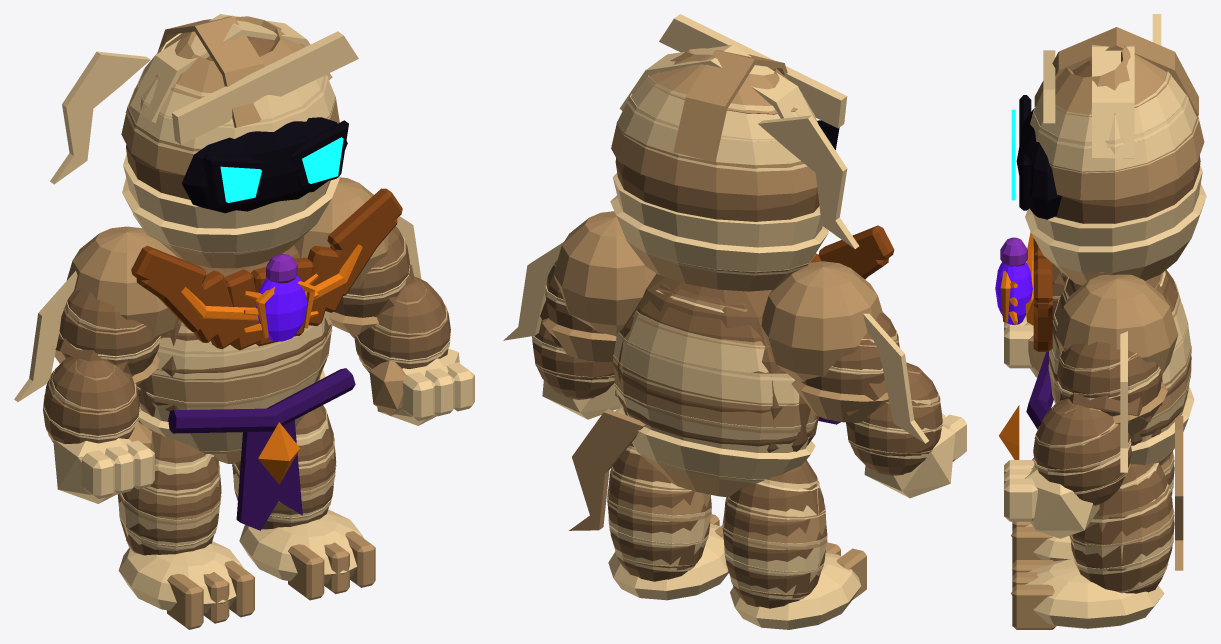
File: CryptMummy.glb
3 renders of one model, left to right at view 1: azimuth 30°, elevation 25°; view 2: azimuth 150°, elevation 25°; view 3: azimuth 270°, elevation 25°, orthographic. The views are drawn at different scales.
Parts seen in each view (by area): view 1: Forearm-1 closed rounded form, Diagonal forehead bandage, Face shadow, Mummy shoulder-1, Head lower wrap 1, Forearm1 closed rounded form, Leg-1 closed rounded form, Torso wrap 3, Purple waist belt, Mummy foot-1, Mummy foot1, Upper arm-1 closed rounded form (+63 smaller); view 2: Mummy shoulder-1, Mummy shoulder1, Leg-1 closed rounded form, Head upper wrap 0, Head lower wrap 1, Leg1 closed rounded form, Torso wrap 4, Mummy head base, Head lower wrap 2, Crown crossing bandage north south, Torso wrap 1, Forearm-1 closed rounded form (+37 smaller); view 3: Mummy shoulder1, Leg1 closed rounded form, Forearm1 closed rounded form, Mummy foot1, Head lower wrap 1, Head upper wrap 0, Head upper wrap 1, Upper arm1 closed rounded form, Crown crossing bandage east west, Head upper wrap 2, Head lower wrap 2, Mummy head base (+43 smaller).
Boxes of the visible parts, <box> form: Forearm-1 closed rounded form: <box>43,356,139,443</box>; Diagonal forehead bandage: <box>172,31,358,144</box>; Face shadow: <box>182,117,347,213</box>; Mummy shoulder-1: <box>66,226,179,338</box>; Head lower wrap 1: <box>122,177,339,254</box>; Forearm1 closed rounded form: <box>354,276,450,372</box>; Leg-1 closed rounded form: <box>118,420,221,555</box>; Torso wrap 3: <box>136,323,332,407</box>; Purple waist belt: <box>168,368,355,433</box>; Mummy foot-1: <box>118,541,243,613</box>; Mummy foot1: <box>239,509,364,583</box>; Upper arm-1 closed rounded form: <box>58,289,159,374</box>; Mummy shoulder-1: <box>761,261,882,381</box>; Mummy shoulder1: <box>553,211,656,336</box>; Leg-1 closed rounded form: <box>722,460,827,608</box>; Head upper wrap 0: <box>611,121,817,195</box>; Head lower wrap 1: <box>610,195,828,275</box>; Leg1 closed rounded form: <box>607,443,711,581</box>; Torso wrap 4: <box>613,332,799,405</box>; Mummy head base: <box>615,158,819,221</box>; Head lower wrap 2: <box>613,173,822,247</box>; Crown crossing bandage north south: <box>673,50,787,162</box>; Torso wrap 1: <box>615,406,815,483</box>; Forearm-1 closed rounded form: <box>846,362,942,476</box>; Mummy shoulder1: <box>1055,274,1178,373</box>; Leg1 closed rounded form: <box>1071,463,1174,593</box>; Forearm1 closed rounded form: <box>1033,398,1131,505</box>; Mummy foot1: <box>1011,559,1164,628</box>; Head lower wrap 1: <box>1025,183,1206,272</box>; Head upper wrap 0: <box>1049,116,1204,200</box>; Head upper wrap 1: <box>1030,94,1199,173</box>; Upper arm1 closed rounded form: <box>1057,341,1162,416</box>; Crown crossing bandage east west: <box>1092,44,1134,158</box>; Head upper wrap 2: <box>1032,71,1188,148</box>; Head lower wrap 2: <box>1031,165,1202,246</box>; Mummy head base: <box>1055,60,1200,223</box>.
Bounding box in the file's own units: 2.78 × 3.53 × 1.24.
